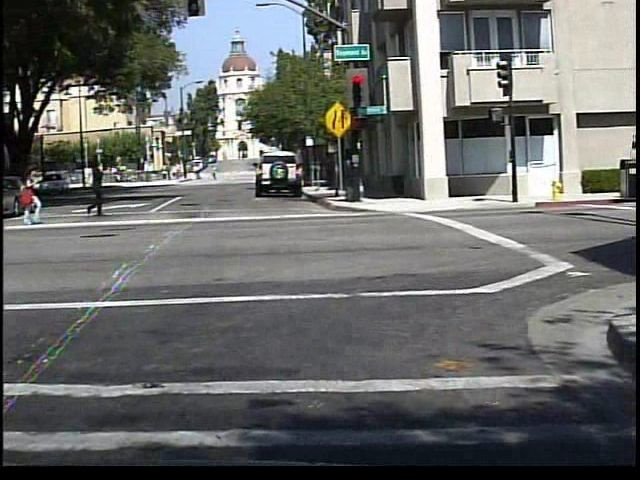person: (75, 157, 113, 222), (17, 165, 43, 229), (204, 163, 216, 183), (189, 166, 199, 183)
